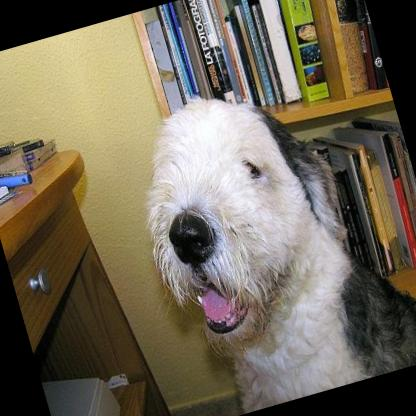Old_English_sheepdog: (117, 47, 416, 416)
